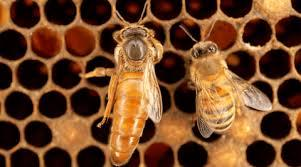Queen-Bee: (98, 14, 168, 167)
worker-bee: (181, 31, 268, 140)
